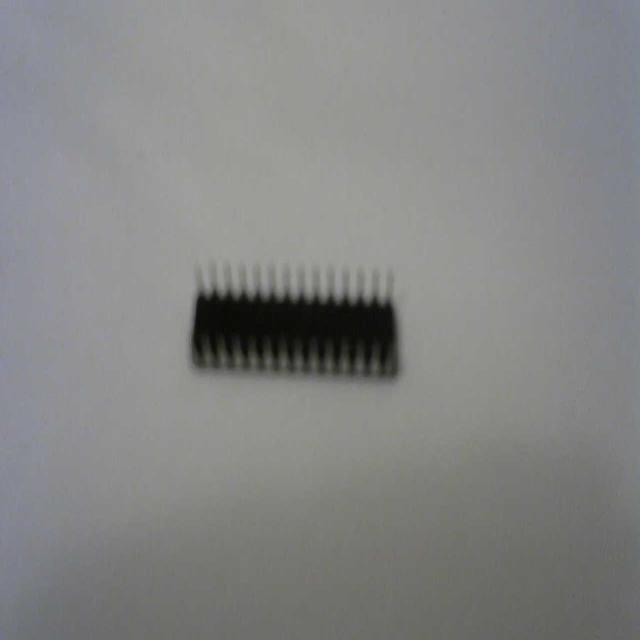atmega: (188, 254, 402, 385)
